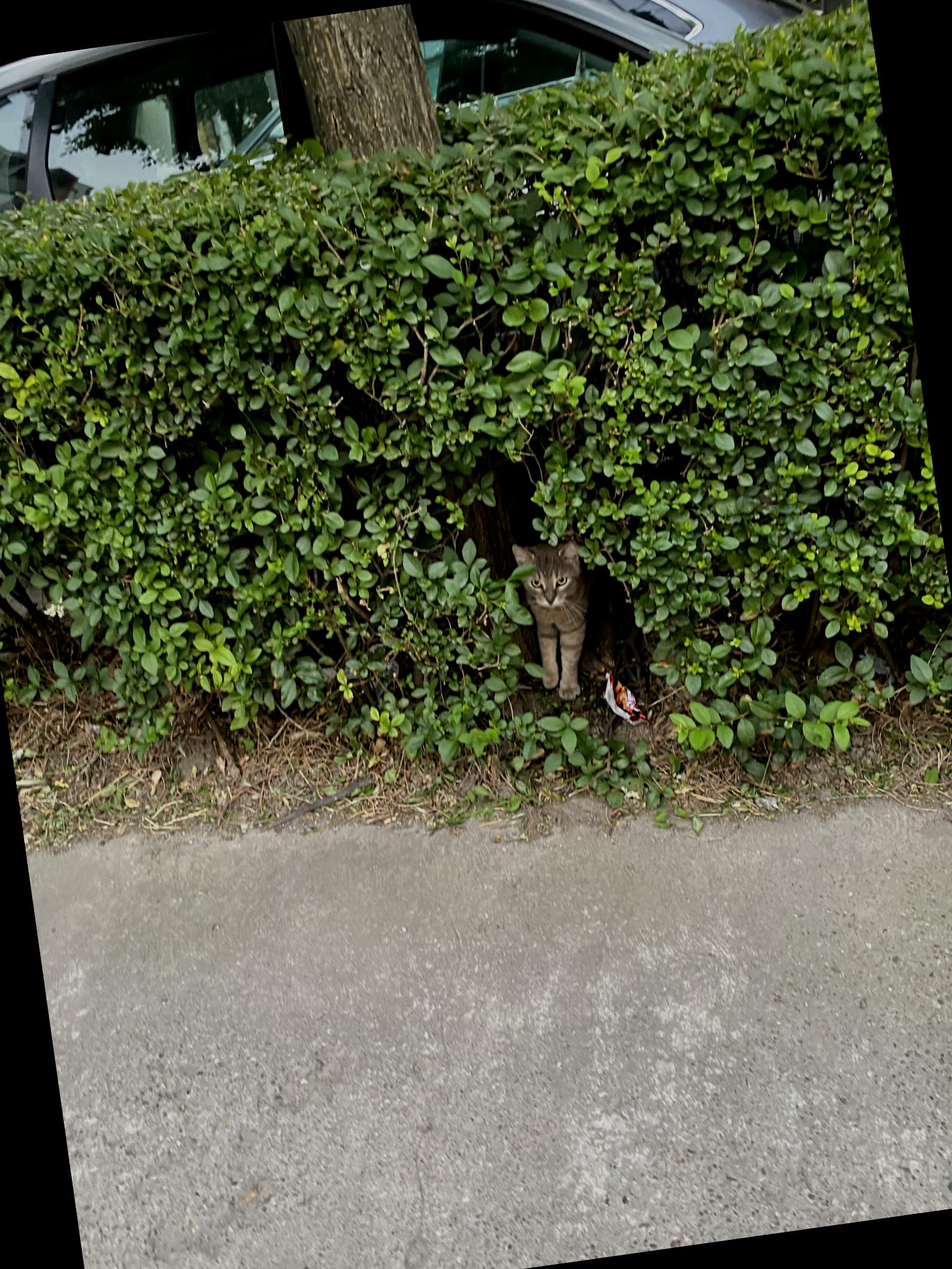macka: (509, 534, 603, 705)
